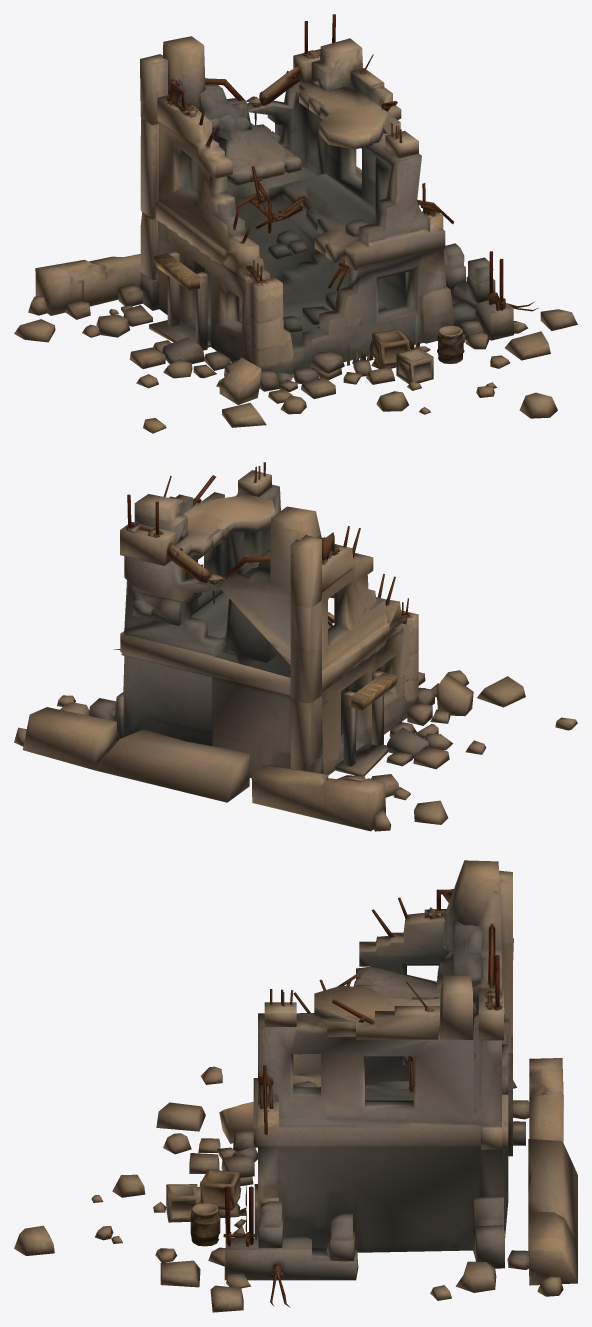
File: desert_ruin_3d_model.fbx
The picture shows the model from 3 angles, top to bottom: view 1: azimuth 30°, elevation 25°; view 2: azimuth 150°, elevation 25°; view 3: azimuth 270°, elevation 25°; orthographic projection. The views are drawn at different scales.
Parts seen in each view (by area): view 1: tripo_node_efd5c38f; view 2: tripo_node_efd5c38f; view 3: tripo_node_efd5c38f.
Boxes of the visible parts, x1=… form: tripo_node_efd5c38f: x1=14, y1=14, x2=577, y2=433; tripo_node_efd5c38f: x1=14, y1=462, x2=577, y2=831; tripo_node_efd5c38f: x1=14, y1=860, x2=577, y2=1312.
Size of the model in its own units: 0.9941 by 0.5801 by 0.998.
Materials: 1 (1 with a texture image).
